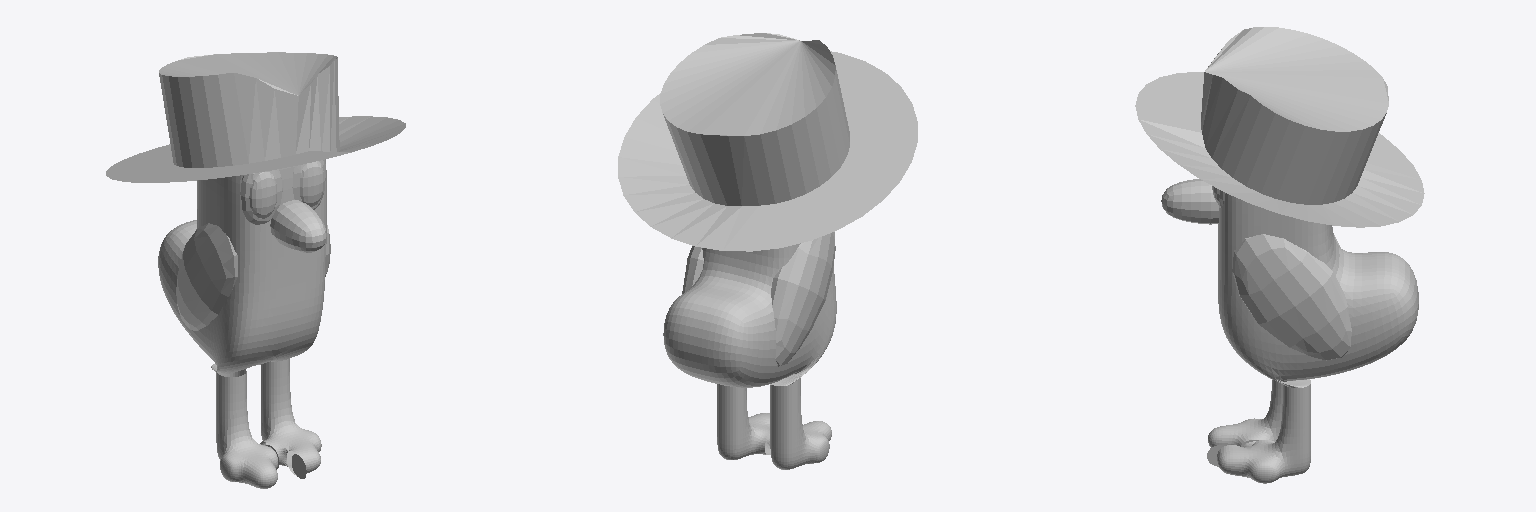
The model's file is CowBird.obj.
3 views of the same model, side by side, from view 1: azimuth 30°, elevation 25°; view 2: azimuth 150°, elevation 25°; view 3: azimuth 270°, elevation 25° (orthographic).
Parts seen in each view (by area): view 1: Circle, Cube_Cube.001, Cube.007_Cube.008, Cube.009_Cube.010, Cube.008_Cube.009, Cube.001_Cube.002, Cube.005_Cube.006, Cube.004_Cube.005, Cube.002_Cube.003; view 2: Circle, Cube_Cube.001, Cube.009_Cube.010, Cube.007_Cube.008, Cube.008_Cube.009, Cube.006_Cube.007; view 3: Circle, Cube_Cube.001, Cube.006_Cube.007, Cube.008_Cube.009, Cube.007_Cube.008, Cube.001_Cube.002.
Boxes of the visible parts, x1=… form: Circle: x1=106, y1=52, x2=405, y2=182; Cube_Cube.001: x1=158, y1=159, x2=326, y2=373; Cube.007_Cube.008: x1=216, y1=369, x2=306, y2=488; Cube.009_Cube.010: x1=176, y1=223, x2=237, y2=330; Cube.008_Cube.009: x1=260, y1=359, x2=321, y2=475; Cube.001_Cube.002: x1=270, y1=200, x2=326, y2=252; Cube.005_Cube.006: x1=249, y1=172, x2=277, y2=218; Cube.004_Cube.005: x1=300, y1=161, x2=324, y2=206; Cube.002_Cube.003: x1=240, y1=169, x2=282, y2=224; Circle: x1=618, y1=33, x2=917, y2=251; Cube_Cube.001: x1=663, y1=243, x2=836, y2=387; Cube.009_Cube.010: x1=771, y1=232, x2=835, y2=366; Cube.007_Cube.008: x1=770, y1=378, x2=831, y2=469; Cube.008_Cube.009: x1=717, y1=384, x2=770, y2=459; Cube.006_Cube.007: x1=682, y1=246, x2=703, y2=293; Circle: x1=1135, y1=27, x2=1424, y2=227; Cube_Cube.001: x1=1218, y1=193, x2=1418, y2=387; Cube.006_Cube.007: x1=1232, y1=234, x2=1351, y2=360; Cube.008_Cube.009: x1=1217, y1=384, x2=1310, y2=483; Cube.007_Cube.008: x1=1207, y1=380, x2=1282, y2=466; Cube.001_Cube.002: x1=1161, y1=179, x2=1218, y2=224.
Size of the model in its own units: 5.42 by 8.1 by 5.14.